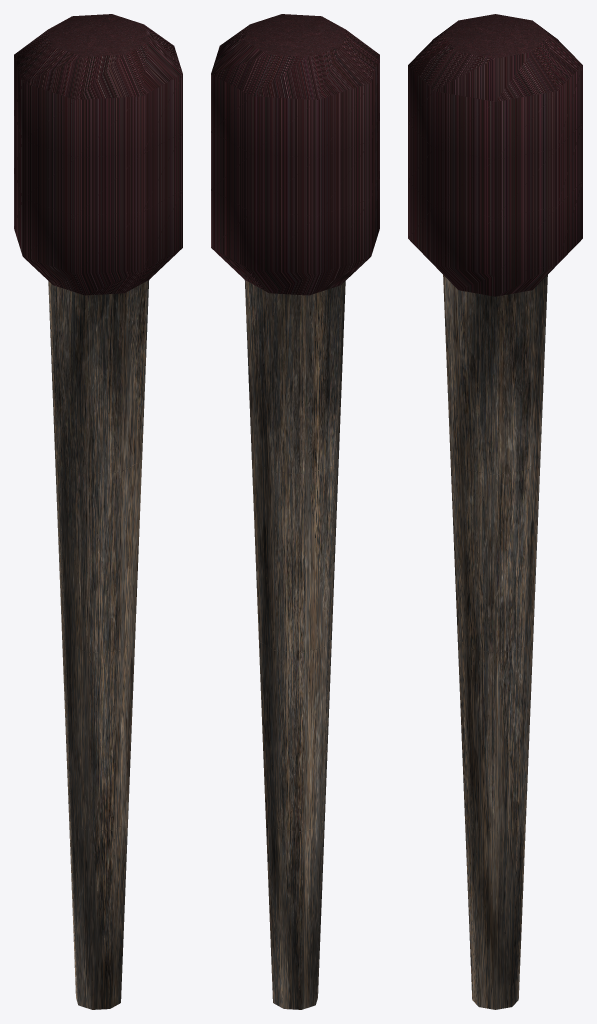
The model's file is HandTorch.fbx.
3 renders of one model, left to right at view 1: azimuth 30°, elevation 25°; view 2: azimuth 150°, elevation 25°; view 3: azimuth 270°, elevation 25°, orthographic.
Parts seen in each view (by area): view 1: Cylinder; view 2: Cylinder; view 3: Cylinder.
Part boxes in pixels (x1,y1,x2,y2): Cylinder: (14,14,182,1009); Cylinder: (211,14,379,1009); Cylinder: (408,14,582,1009).
Size of the model in its own units: 41.59 by 253 by 41.59.
2 materials, 2 textured.
